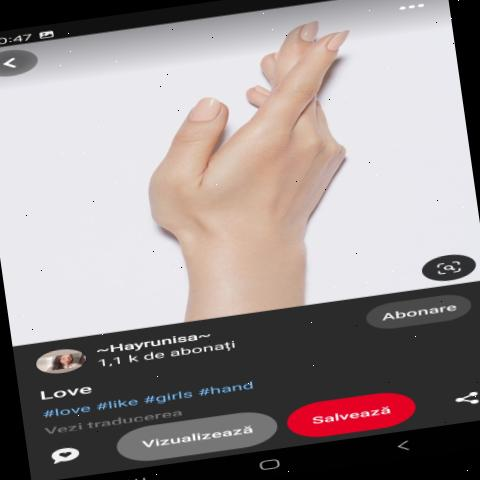hands: (79, 0, 399, 296)
